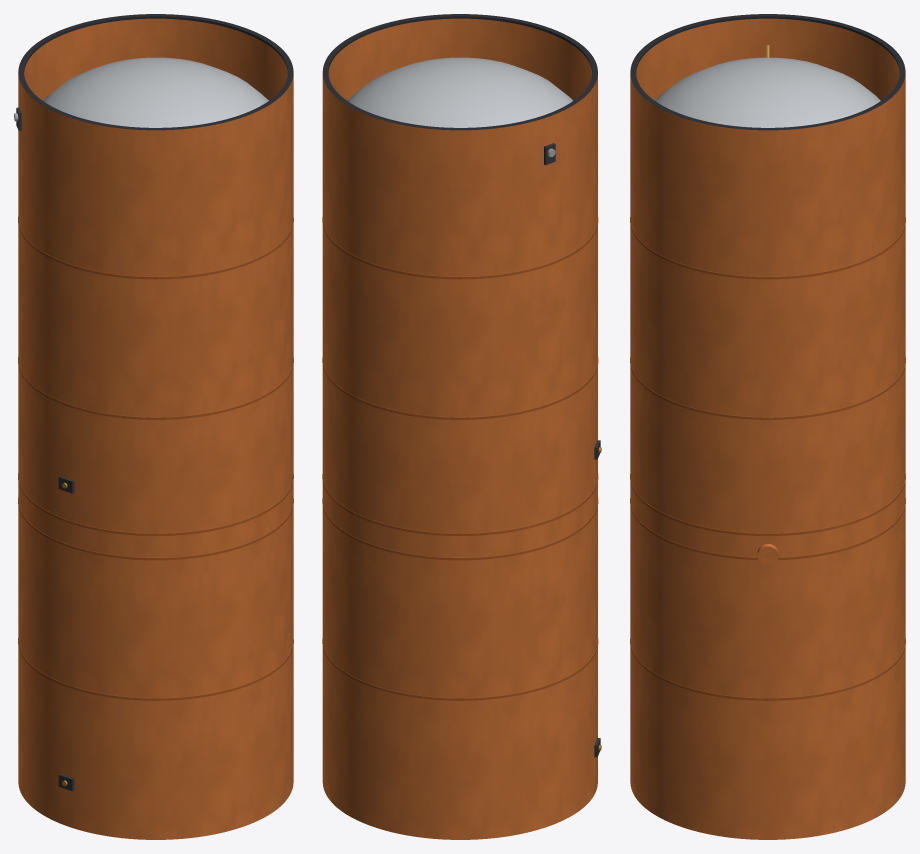
File: vulcan_tank.glb
The picture shows the model from 3 angles, left to right: view 1: azimuth 30°, elevation 25°; view 2: azimuth 150°, elevation 25°; view 3: azimuth 270°, elevation 25°; orthographic projection.
Visible parts, largest first — view 1: shell, inner, detail, frames; view 2: shell, inner, detail, frames; view 3: shell, inner, detail, frames.
Boxes of the visible parts, x1,y1,x2,y2 form: shell: [18, 14, 293, 839]; inner: [43, 57, 268, 127]; detail: [14, 107, 293, 791]; frames: [18, 14, 293, 130]; shell: [322, 14, 597, 839]; inner: [347, 57, 572, 127]; detail: [322, 143, 601, 757]; frames: [323, 14, 597, 130]; shell: [630, 14, 905, 839]; inner: [655, 57, 880, 127]; detail: [630, 217, 905, 700]; frames: [630, 14, 905, 130].
Size of the model in its own units: 3.46 by 9.6 by 3.38.
16 materials, 3 textured.
